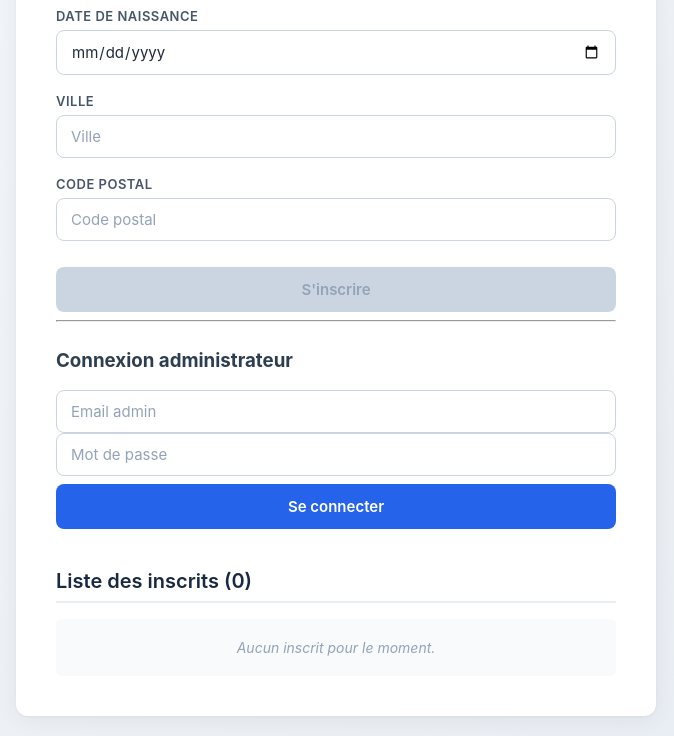
Test: Espace administrateur › déconnexion : revient au formulaire de connexion
This screenshot has width=674, height=736.
(page scrolled)
Step 1. Click the button with test id "login-btn" → click(336, 507), box [56,484,616,529]
(page scrolled)
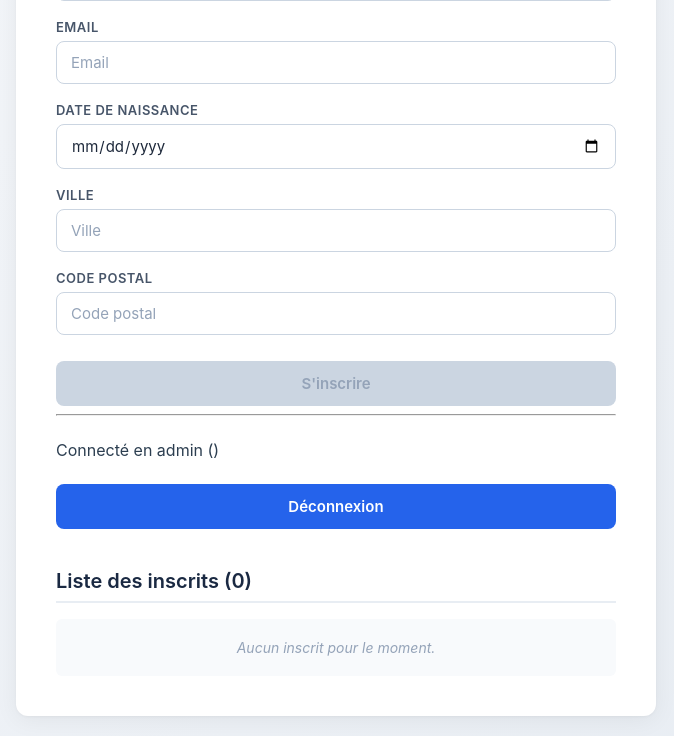
Expected: the element with test id "admin-panel" is shown, [56,424,616,529]
Step 2. Click the button with test id "logout-btn" → click(336, 506), box [56,484,616,529]
(page scrolled)
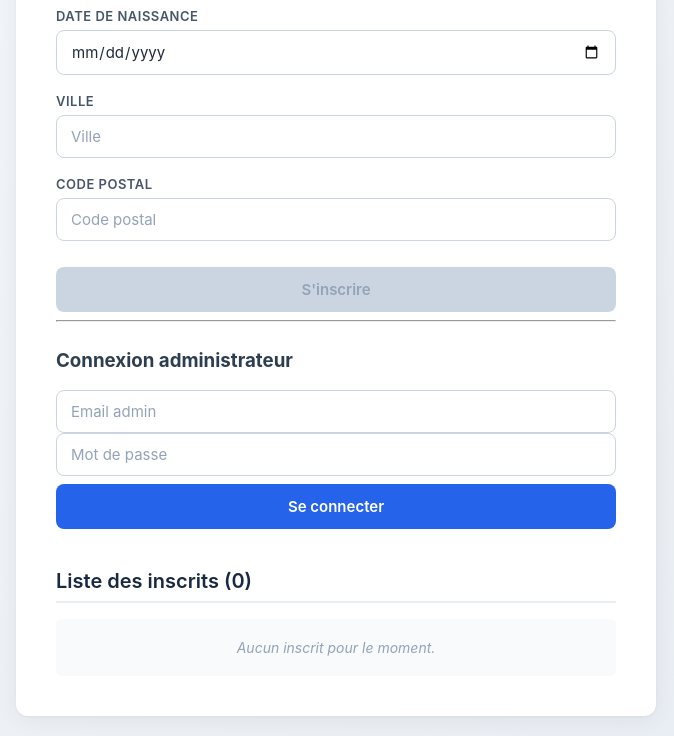
Expected: the element with test id "admin-login" is shown, [56,330,616,529]
